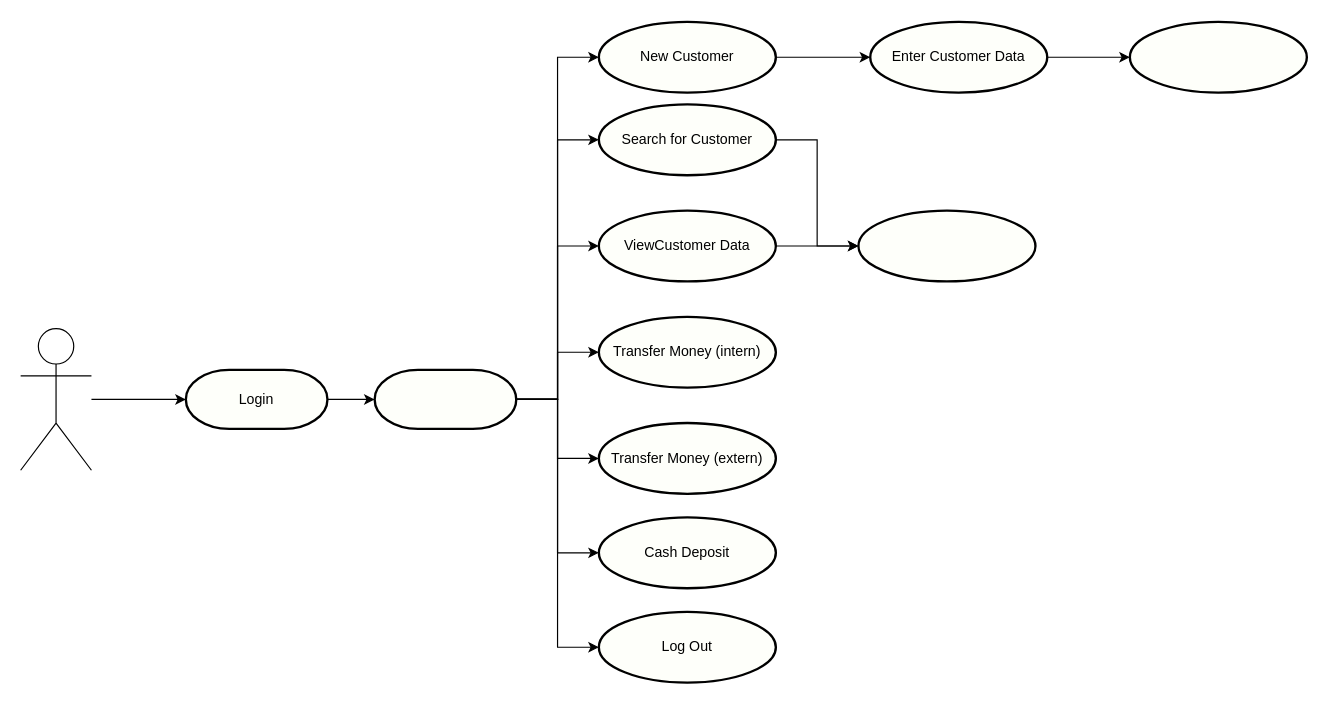
The diagram is 1329 pixels wide and 703 high, and some of its shapes have lost their labels. The box of each missing label's shape, as (x1, y1, x2, y2) in pixels:
Edit Customer Data: (857, 209, 1036, 282)
Main Menu: (373, 368, 517, 430)
Print Contract & other Documents: (1128, 20, 1307, 93)
User: (19, 327, 91, 470)
